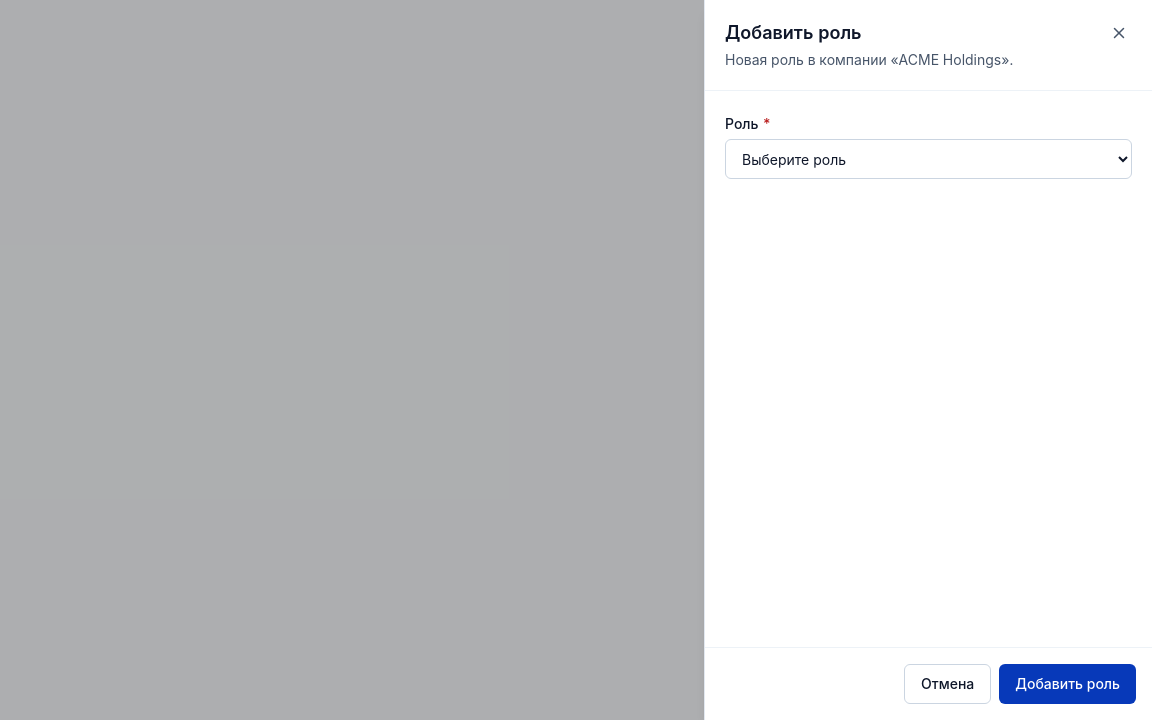
<AssignRoleDialog /> › refuses submission when no role is chosen
This screenshot has width=1152, height=720.
Click the button "Добавить роль". click: click(1068, 684)
box: [999, 664, 1136, 704]
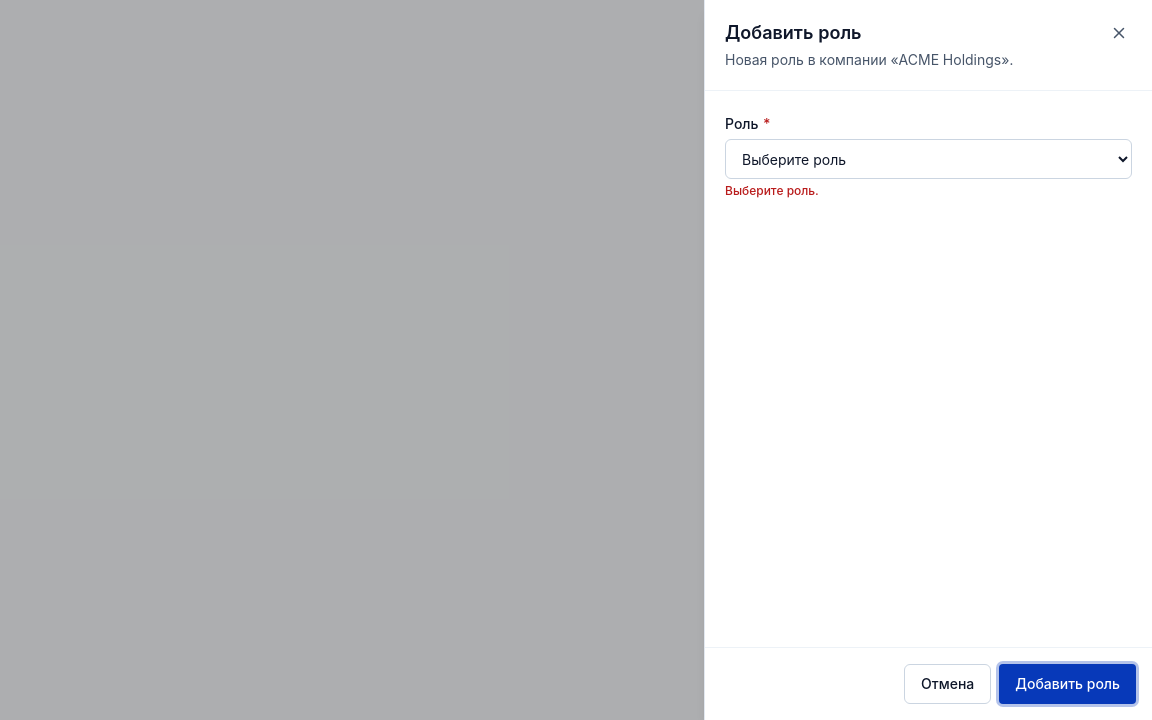
Expected: the message "Выберите роль." is shown, [725, 183, 818, 198]
